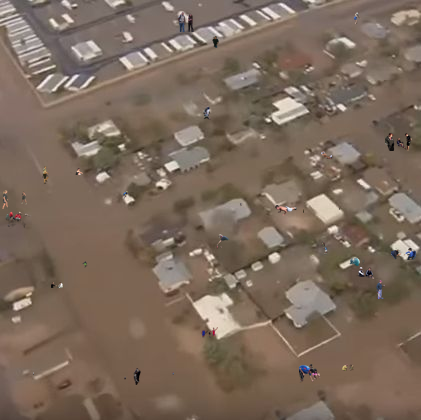Human: (5, 211, 32, 229), (385, 133, 412, 151), (299, 364, 324, 383), (2, 190, 27, 209), (124, 362, 141, 385), (177, 12, 194, 32), (320, 241, 344, 255), (355, 267, 381, 279), (391, 248, 416, 260), (275, 205, 297, 216), (216, 234, 230, 249), (201, 327, 218, 338), (204, 36, 219, 48), (376, 280, 385, 299), (348, 258, 365, 266), (42, 166, 49, 184), (203, 106, 212, 120), (321, 150, 332, 159), (354, 11, 361, 24), (70, 168, 83, 175), (342, 364, 354, 371), (51, 282, 63, 288), (123, 191, 128, 201), (82, 261, 88, 268), (289, 339, 292, 345), (68, 362, 73, 364), (240, 203, 243, 206), (172, 372, 174, 375), (303, 209, 304, 213), (244, 280, 246, 282), (33, 372, 34, 375), (339, 208, 340, 210)
